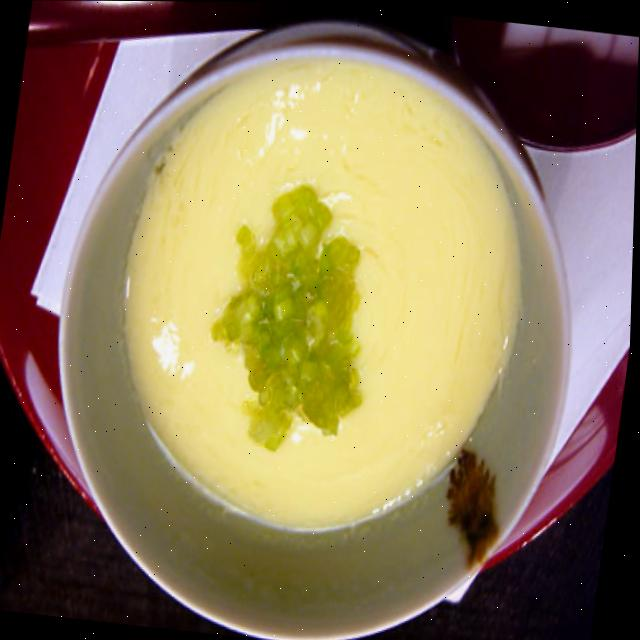鸡蛋料理: (53, 12, 595, 625)
